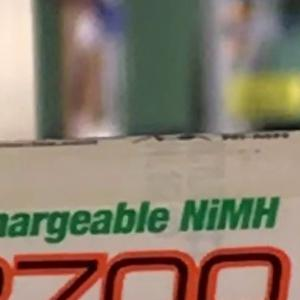keyword: (170, 187, 289, 241)
